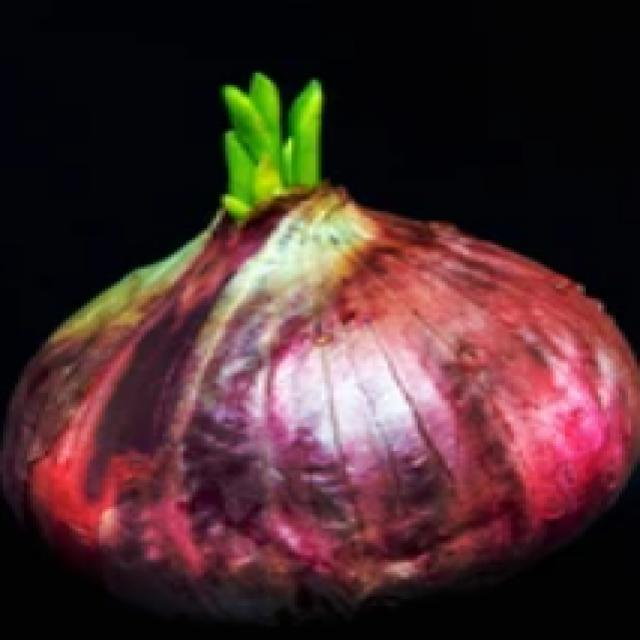rotten: (60, 320, 475, 550)
sprouting: (202, 90, 336, 213)
